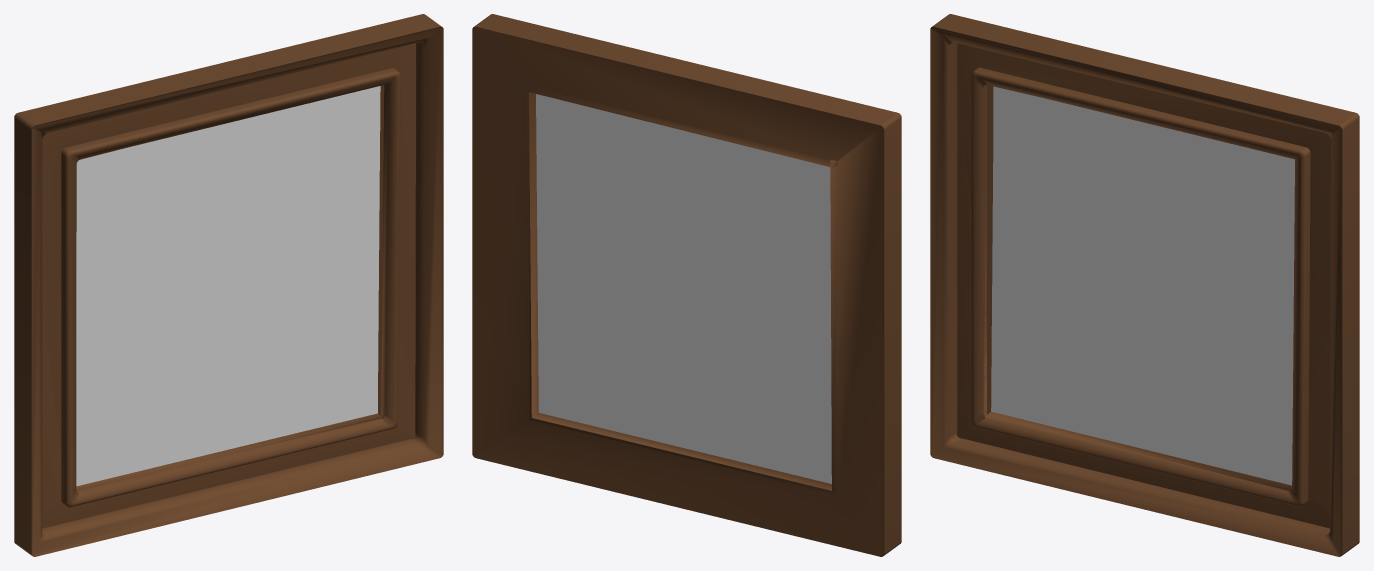
Rendered from Frame.fbx.
3 views of the same model, side by side, from view 1: azimuth 30°, elevation 25°; view 2: azimuth 150°, elevation 25°; view 3: azimuth 330°, elevation 25° (orthographic).
Parts seen in each view (by area): view 1: Plane, Frame; view 2: Frame, Plane; view 3: Plane, Frame.
Boxes of the visible parts, x1,y1,x2,y2 form: Plane: (76, 86, 380, 486); Frame: (14, 14, 443, 556); Frame: (472, 14, 901, 556); Plane: (536, 94, 831, 483); Plane: (991, 86, 1294, 485); Frame: (930, 14, 1359, 556).
Bounding box in the file's own units: 200 × 200 × 14.61.
